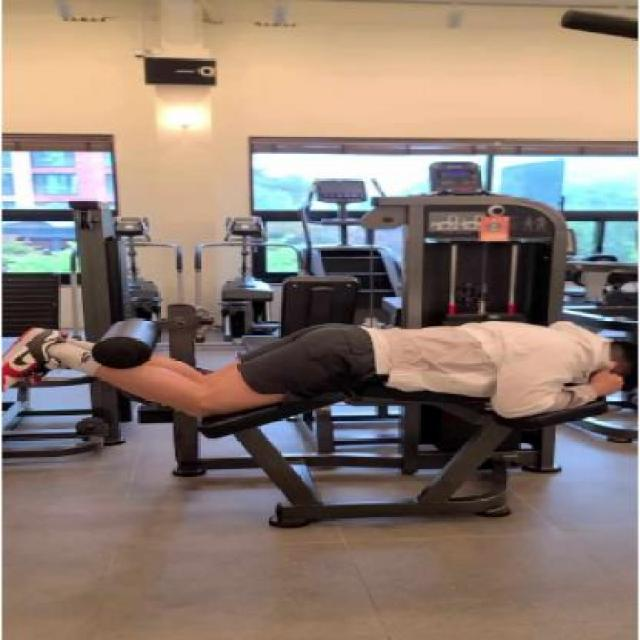reg curl machine: (0, 192, 632, 533)
